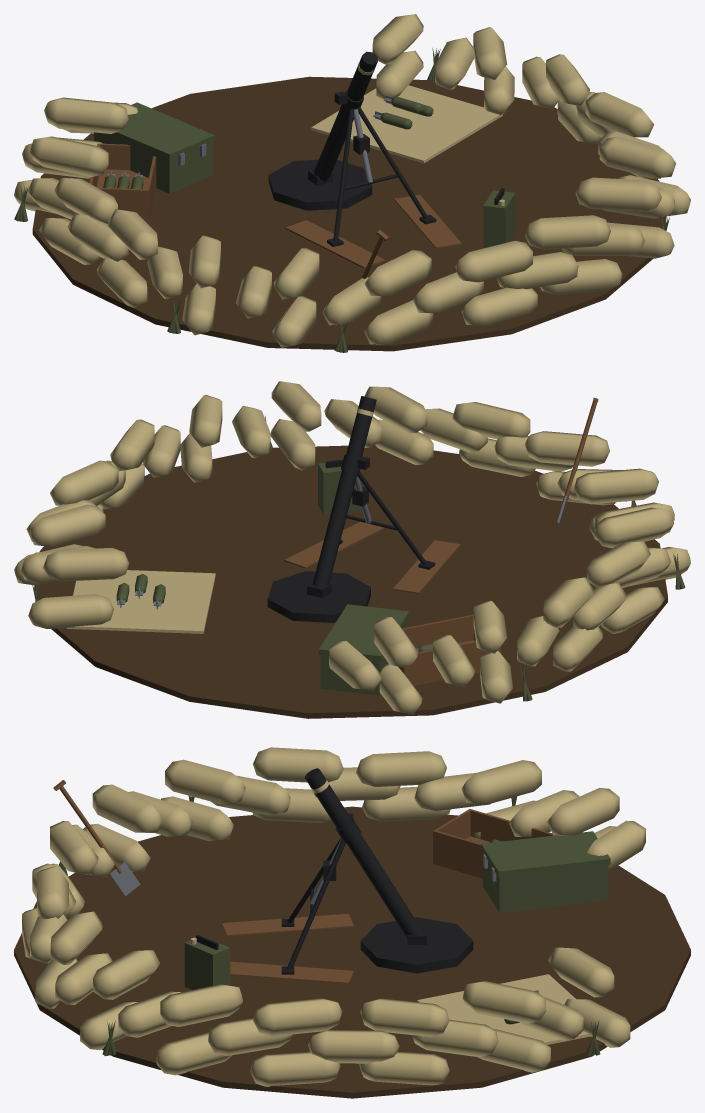
The model's file is 81mm-mortar-emplacement.glb.
3 views of the same model, one above another, from view 1: azimuth 30°, elevation 25°; view 2: azimuth 150°, elevation 25°; view 3: azimuth 270°, elevation 25° (orthographic). The views are drawn at different scales.
Visible parts, largest first — view 1: Mesh_MudBase, Mesh_Tarp, Mesh_Baseplate, Mesh_ClosedCrate_Lid, Mesh_ClosedCrate_Body, Mesh_Sandbag_2_16, Mesh_Sandbag_2_17, Mesh_Sandbag_2_7, Mesh_Sandbag_2_6, Mesh_Sandbag_2_0, Mesh_Sandbag_2_15, Mesh_Sandbag_First (+41 smaller); view 2: Mesh_MudBase, Mesh_Tarp, Mesh_Baseplate, Mesh_TubeMesh, Mesh_Sandbag_2_11, Mesh_Sandbag_2_2, Mesh_ClosedCrate_Lid, Mesh_Sandbag_0_11, Mesh_Sandbag_2_1, Mesh_Sandbag_2_12, Mesh_Sandbag_2_3, Mesh_Sandbag_2_0 (+41 smaller); view 3: Mesh_MudBase, Mesh_ClosedCrate_Body, Mesh_Baseplate, Mesh_ClosedCrate_Lid, Mesh_TubeMesh, Mesh_Tarp, Mesh_Sandbag_2_14, Mesh_Sandbag_2_13, Mesh_Sandbag_2_5, Mesh_Sandbag_1_13, Mesh_Sandbag_2_12, Mesh_Sandbag_2_15 (+42 smaller).
Boxes of the visible parts, left/top/right/bottom form: Mesh_MudBase: left=32, top=76, right=666, bottom=351; Mesh_Tarp: left=311, top=85, right=502, bottom=163; Mesh_Baseplate: left=268, top=159, right=372, bottom=210; Mesh_ClosedCrate_Lid: left=108, top=102, right=214, bottom=159; Mesh_ClosedCrate_Body: left=94, top=132, right=212, bottom=193; Mesh_Sandbag_2_16: left=575, top=177, right=661, bottom=211; Mesh_Sandbag_2_17: left=525, top=215, right=610, bottom=249; Mesh_Sandbag_2_7: left=44, top=97, right=128, bottom=133; Mesh_Sandbag_2_6: left=30, top=136, right=108, bottom=176; Mesh_Sandbag_2_0: left=455, top=240, right=532, bottom=282; Mesh_Sandbag_2_15: left=599, top=136, right=675, bottom=178; Mesh_Sandbag_First: left=461, top=287, right=537, bottom=326; Mesh_MudBase: left=34, top=445, right=667, bottom=718; Mesh_Tarp: left=66, top=570, right=215, bottom=633; Mesh_Baseplate: left=267, top=571, right=370, bottom=622; Mesh_TubeMesh: left=312, top=396, right=376, bottom=586; Mesh_Sandbag_2_11: left=43, top=548, right=129, bottom=581; Mesh_Sandbag_2_2: left=574, top=468, right=658, bottom=504; Mesh_ClosedCrate_Lid: left=319, top=604, right=409, bottom=661; Mesh_Sandbag_0_11: left=28, top=594, right=113, bottom=628; Mesh_Sandbag_2_1: left=524, top=431, right=609, bottom=466; Mesh_Sandbag_2_12: left=29, top=504, right=105, bottom=546; Mesh_Sandbag_2_3: left=596, top=507, right=673, bottom=548; Mesh_Sandbag_2_0: left=452, top=402, right=530, bottom=439; Mesh_MudBase: left=14, top=806, right=690, bottom=1098; Mesh_ClosedCrate_Body: left=483, top=853, right=608, bottom=912; Mesh_Baseplate: left=360, top=917, right=473, bottom=973; Mesh_ClosedCrate_Lid: left=481, top=831, right=610, bottom=877; Mesh_TubeMesh: left=304, top=768, right=422, bottom=938; Mesh_Tarp: left=417, top=974, right=590, bottom=1058; Mesh_Sandbag_2_14: left=253, top=998, right=342, bottom=1036; Mesh_Sandbag_2_13: left=360, top=998, right=449, bottom=1036; Mesh_Sandbag_2_5: left=356, top=751, right=446, bottom=786; Mesh_Sandbag_1_13: left=308, top=1030, right=399, bottom=1063; Mesh_Sandbag_2_12: left=462, top=981, right=545, bottom=1023; Mesh_Sandbag_2_15: left=160, top=984, right=242, bottom=1026.
Bounding box in the file's own units: 4.2 × 1.27 × 4.2.
Materials: 1 (1 with a texture image).
